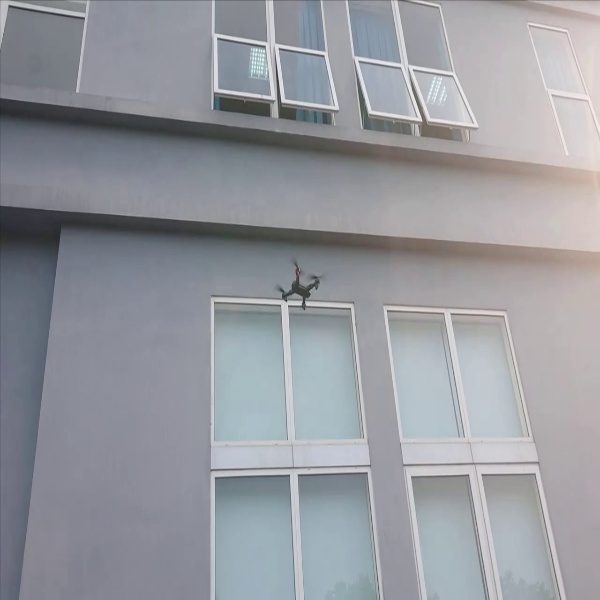drone: (265, 249, 331, 313)
